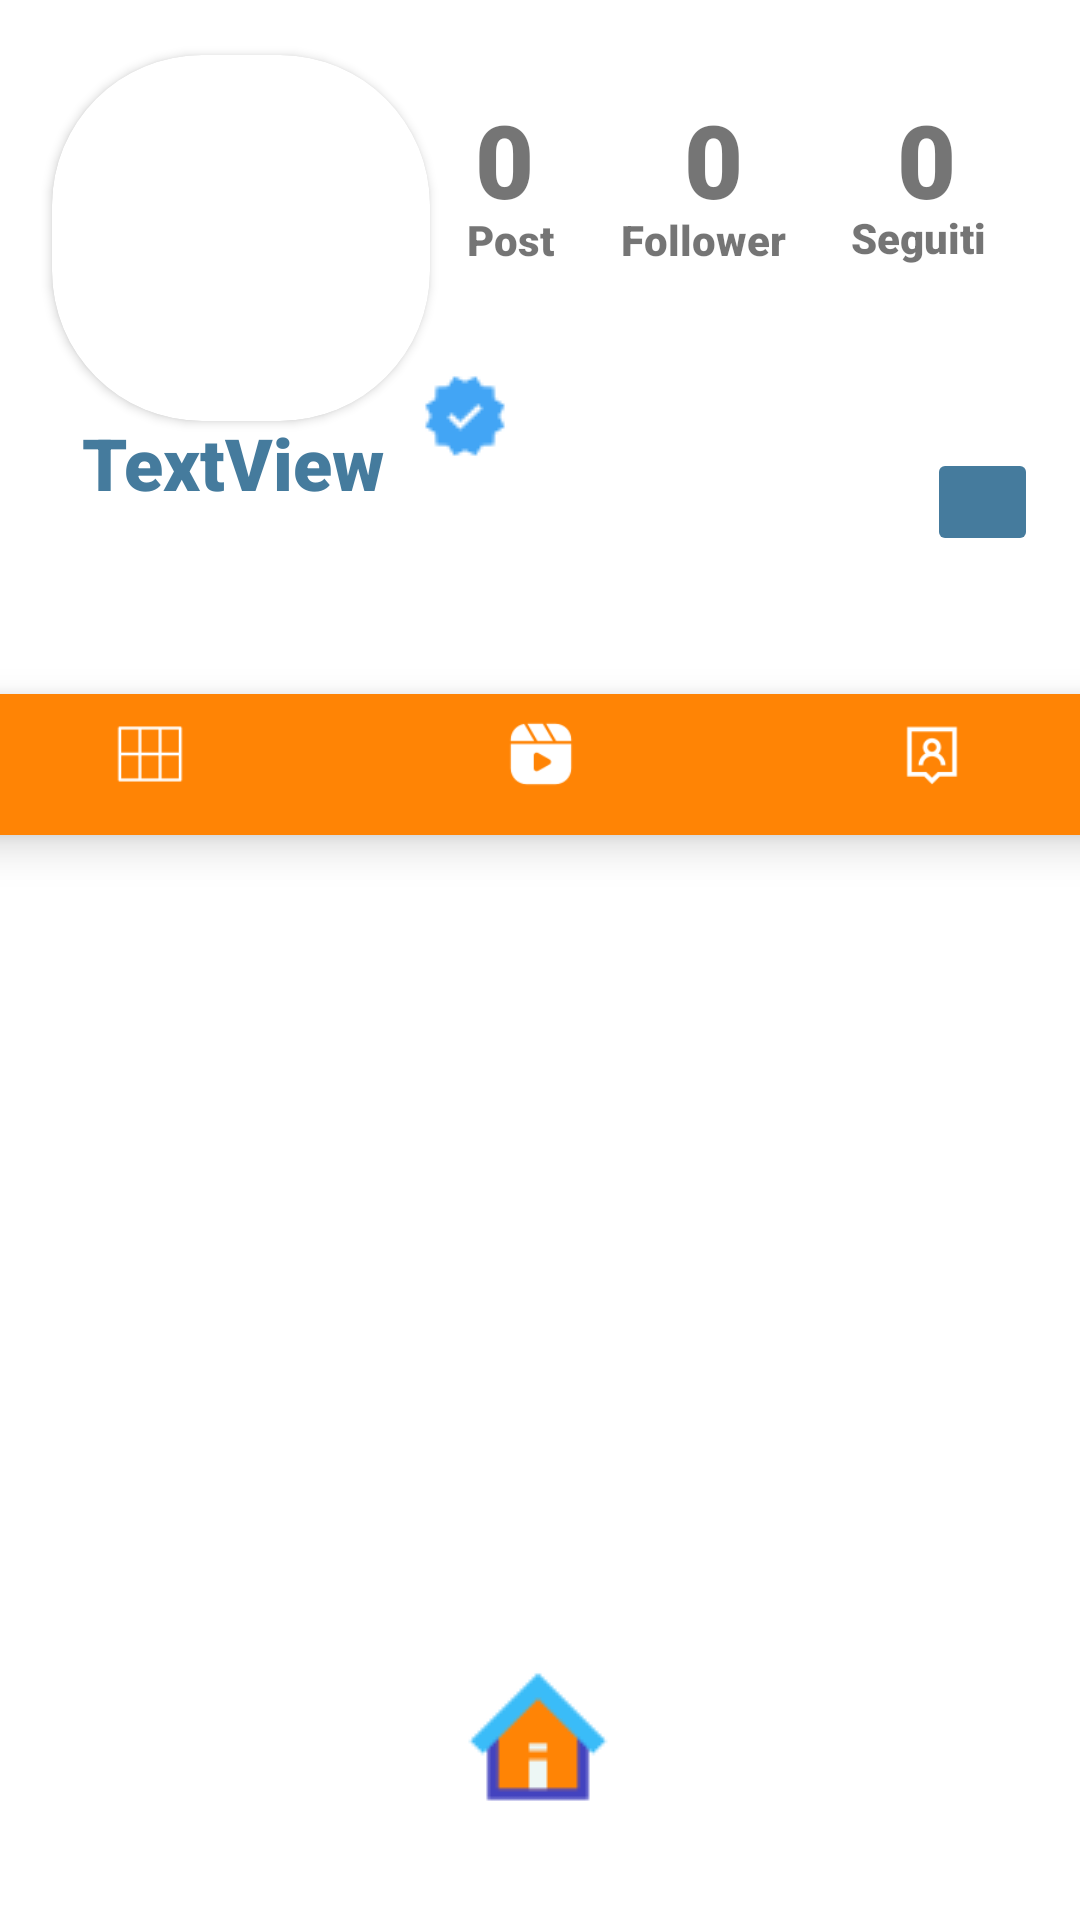

Point at icon controls on the screen. Image size 1080 × 1920, points as [x,y].
home: [538,1737]
instagram verification badge: [465,416]
